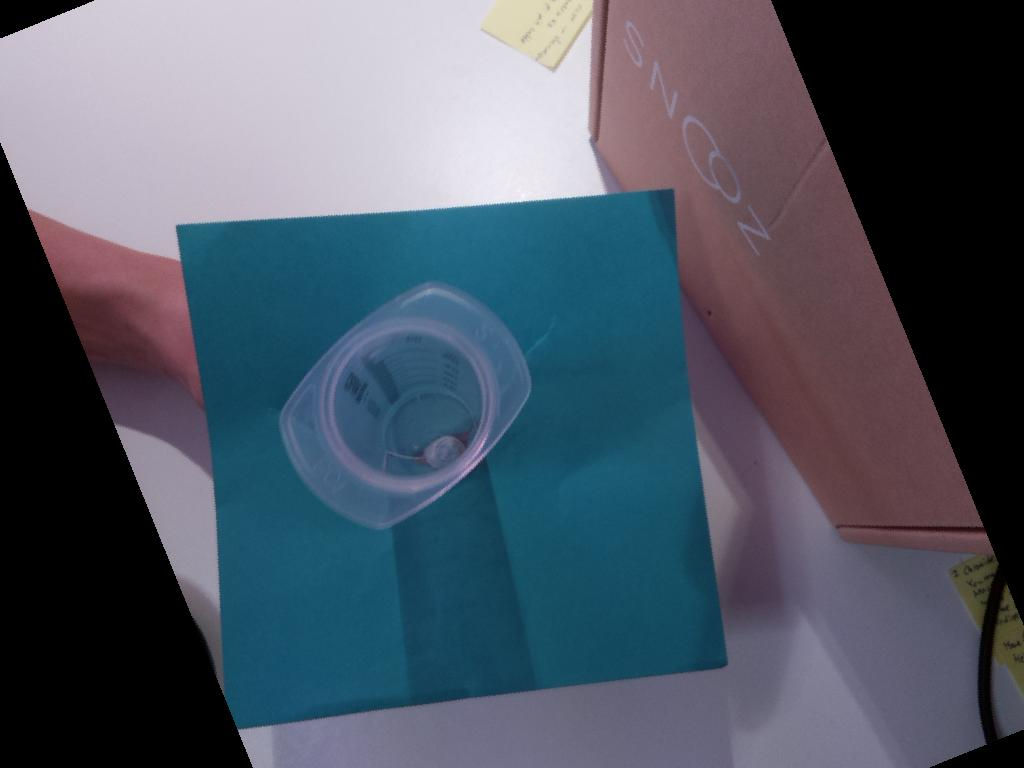clean: (280, 280, 532, 529)
